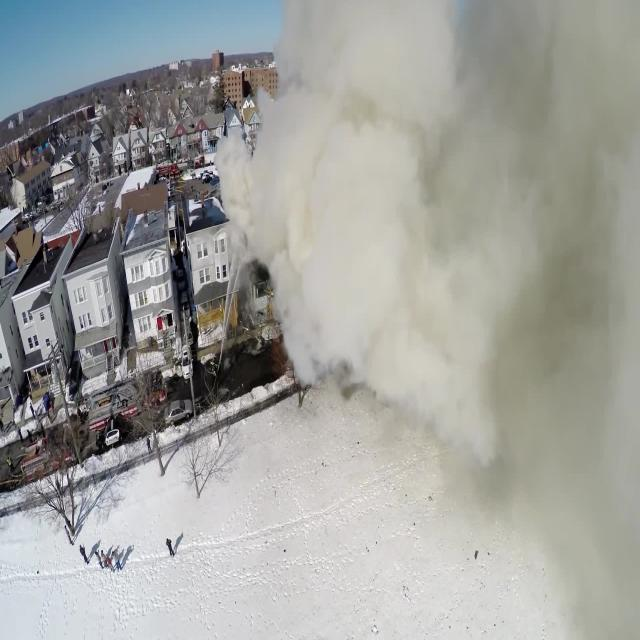Smoke: (221, 8, 640, 388)
